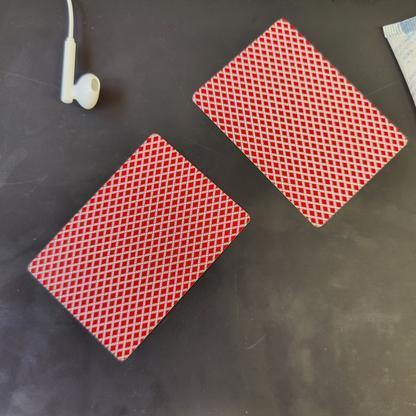card: (25, 160, 253, 368), (189, 12, 416, 149)
